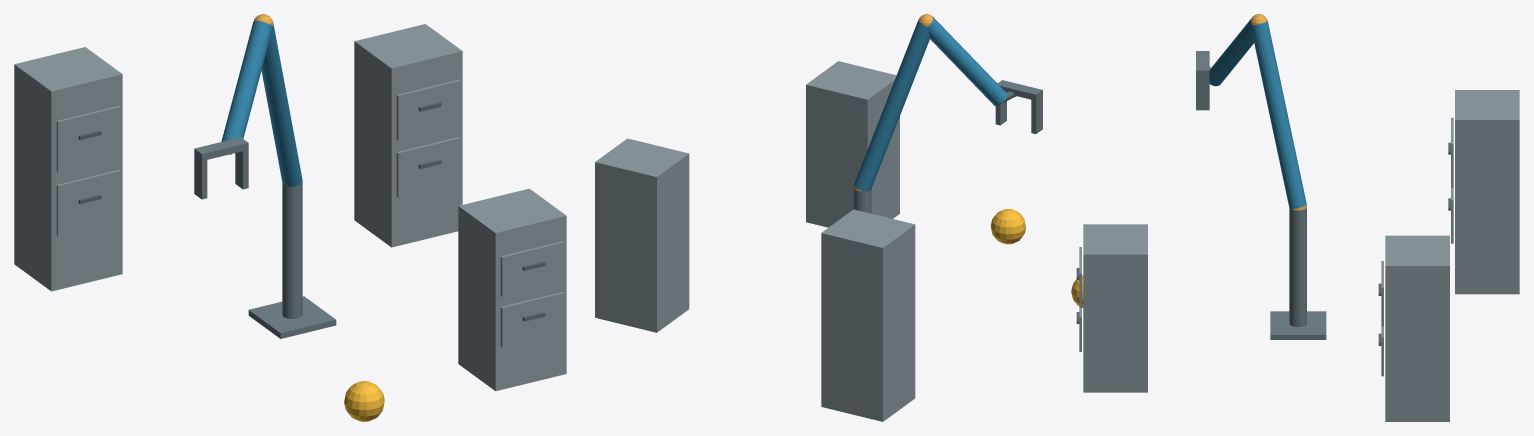
3 views of the same model, side by side, from view 1: azimuth 30°, elevation 25°; view 2: azimuth 150°, elevation 25°; view 3: azimuth 270°, elevation 25° (orthographic). The views are drawn at different scales.
Parts seen in each view (by area): view 1: cabinet_3 body, cabinet_2 body, cabinet_1 body, cabinet_3 drawer front, cabinet_3 drawer front.001, moving link 1, cabinet_2 drawer front.001, cabinet_2 drawer front, fixed post, cabinet_1 drawer front.001, cabinet_1 drawer front, moving link 2 (+5 smaller); view 2: cabinet_3 body, cabinet_2 body, cabinet_1 body, moving link 1, moving link 2, ball ball_1, gripper bridge; view 3: cabinet_3 body, cabinet_2 body, cabinet_1 body, moving link 1, fixed post, pedestal, moving link 2, gripper finger 1.
Boxes of the visible parts, x1,y1,x2,y2 form: cabinet_3 body: (14, 47, 122, 291); cabinet_2 body: (354, 24, 462, 247); cabinet_1 body: (458, 188, 566, 391); cabinet_3 drawer front: (56, 170, 120, 235); cabinet_3 drawer front.001: (56, 106, 120, 171); moving link 1: (261, 22, 302, 186); cabinet_2 drawer front.001: (396, 79, 460, 140); cabinet_2 drawer front: (396, 137, 460, 197); fixed post: (282, 181, 302, 318); cabinet_1 drawer front.001: (500, 241, 564, 296); cabinet_1 drawer front: (500, 292, 564, 347); moving link 2: (221, 21, 272, 153); cabinet_3 body: (821, 209, 915, 421); cabinet_2 body: (595, 138, 689, 332); cabinet_1 body: (806, 61, 899, 227); moving link 1: (854, 20, 929, 191); moving link 2: (928, 17, 1007, 106); ball ball_1: (990, 209, 1025, 244); gripper bridge: (998, 80, 1042, 100); cabinet_3 body: (1455, 90, 1519, 294); cabinet_2 body: (1385, 235, 1449, 421); cabinet_1 body: (1083, 224, 1147, 392); moving link 1: (1251, 21, 1306, 208); fixed post: (1289, 207, 1306, 326); pedestal: (1270, 311, 1326, 339); moving link 2: (1209, 18, 1253, 86); gripper finger 1: (1196, 77, 1209, 110).
Size of the model in its own units: 1.67 by 1.44 by 2.01.
